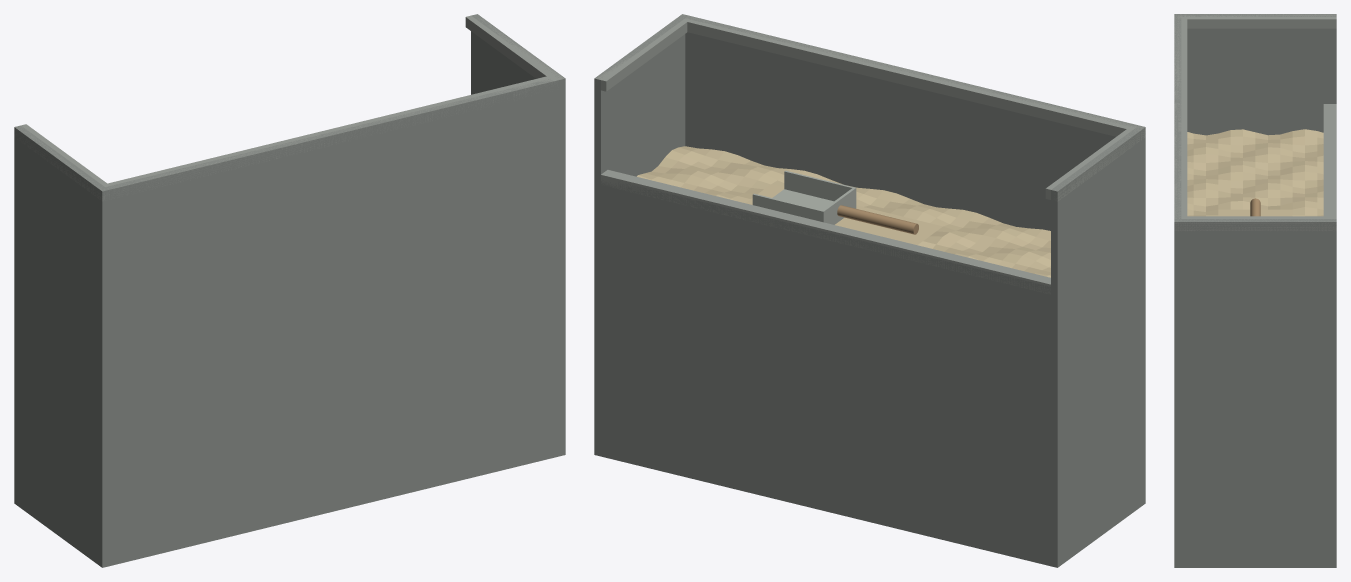
File: parametric-shallow-open-sand-bin-crew.glb
3 views of the same model, side by side, from view 1: azimuth 30°, elevation 25°; view 2: azimuth 150°, elevation 25°; view 3: azimuth 270°, elevation 25° (orthographic). The views are drawn at different scales.
Visible parts, largest first — view 1: parametric-shallow-open-sand-bin-crew:bin-structure; view 2: parametric-shallow-open-sand-bin-crew:bin-structure, parametric-shallow-open-sand-bin-crew:contained-sand, parametric-shallow-open-sand-bin-crew:sand-scoop; view 3: parametric-shallow-open-sand-bin-crew:bin-structure, parametric-shallow-open-sand-bin-crew:contained-sand.
Boxes of the visible parts, bbox=[...] form: parametric-shallow-open-sand-bin-crew:bin-structure: bbox=[14, 14, 565, 567]; parametric-shallow-open-sand-bin-crew:bin-structure: bbox=[594, 14, 1145, 567]; parametric-shallow-open-sand-bin-crew:contained-sand: bbox=[637, 146, 1050, 277]; parametric-shallow-open-sand-bin-crew:sand-scoop: bbox=[752, 170, 918, 234]; parametric-shallow-open-sand-bin-crew:bin-structure: bbox=[1174, 14, 1336, 567]; parametric-shallow-open-sand-bin-crew:contained-sand: bbox=[1187, 129, 1323, 216].
Size of the model in its own units: 0.85 by 0.66 by 0.28.
